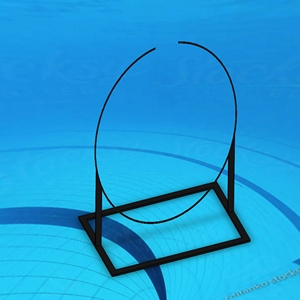circle: (63, 36, 257, 279)
